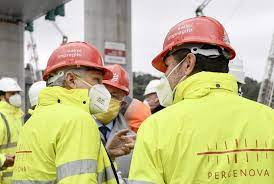Helmet: (148, 20, 236, 55), (40, 41, 105, 73)
Mask: (75, 79, 117, 114), (152, 78, 190, 103)
No-jacket: (136, 111, 274, 184), (19, 109, 103, 184)
